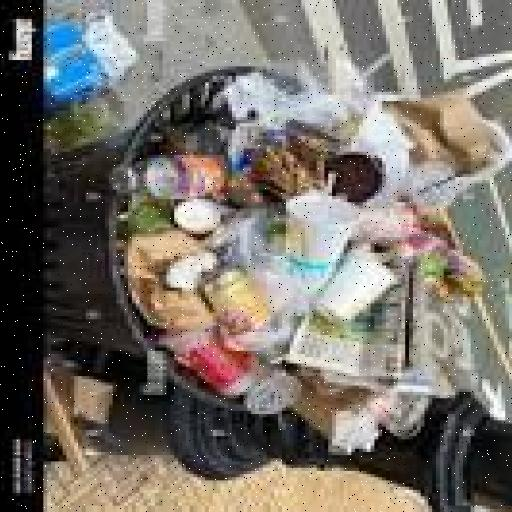poubelle_pleine: (38, 58, 419, 429)
